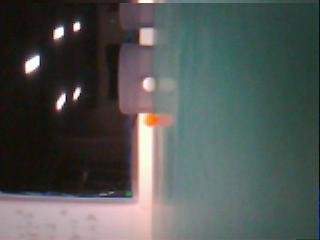oball: (144, 113, 158, 127)
